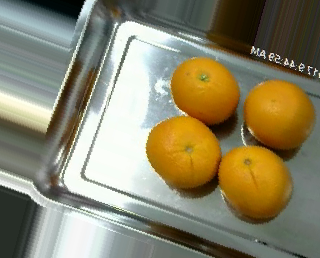Orange: (218, 144, 294, 218), (145, 115, 221, 186), (242, 78, 315, 149), (171, 56, 240, 122)
